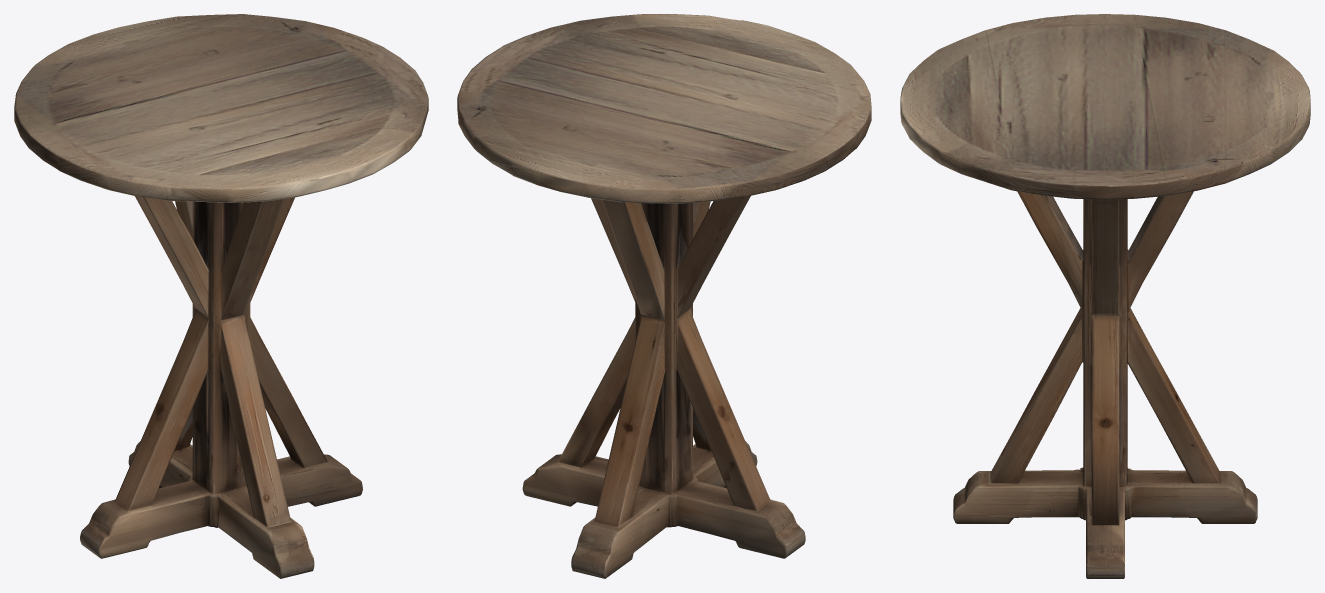
File: 36_Reclaimed_Elm_Wo_0404040722_texture.glb
3 views of the same model, side by side, from view 1: azimuth 30°, elevation 25°; view 2: azimuth 150°, elevation 25°; view 3: azimuth 270°, elevation 25° (orthographic).
Visible parts, largest first — view 1: Mesh_0; view 2: Mesh_0; view 3: Mesh_0.
Boxes of the visible parts, <box> form: Mesh_0: <box>14,14,428,578</box>; Mesh_0: <box>457,14,871,578</box>; Mesh_0: <box>900,14,1310,578</box>.
Bounding box in the file's own units: 0.9485 × 1.07 × 0.9485.
Materials: 1 (1 with a texture image).
